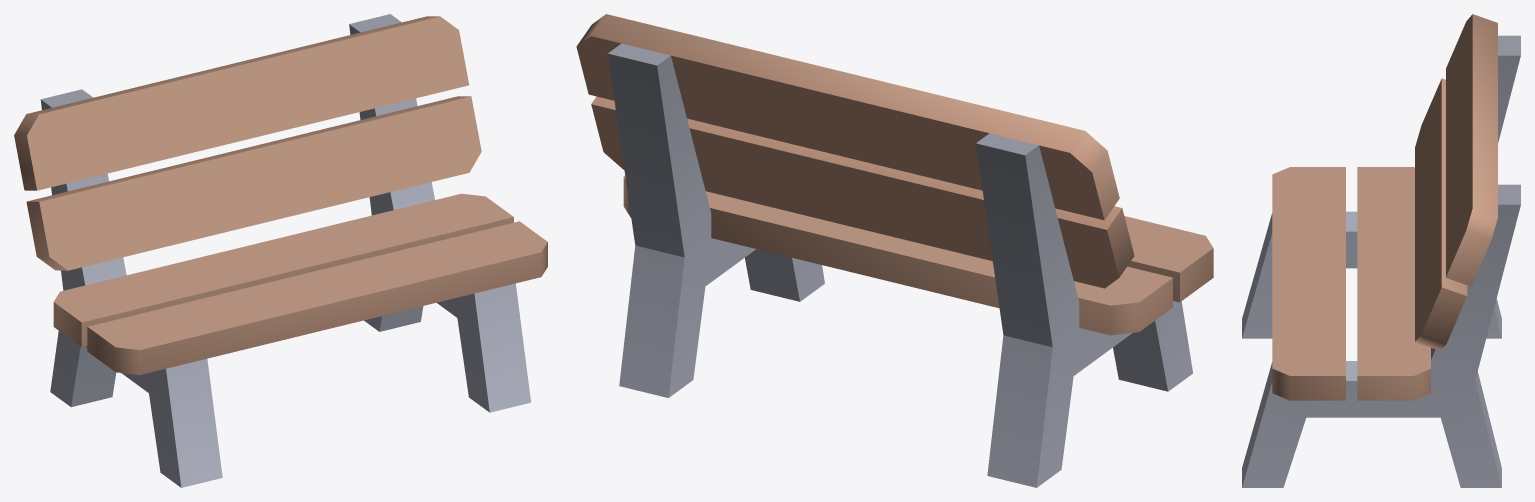
File: bench.glb
3 renders of one model, left to right at view 1: azimuth 30°, elevation 25°; view 2: azimuth 150°, elevation 25°; view 3: azimuth 270°, elevation 25°, orthographic. The views are drawn at different scales.
Visible parts, largest first — view 1: bench; view 2: bench; view 3: bench.
Part boxes in pixels (<box>): bench: <box>14,14,547,487</box>; bench: <box>576,14,1213,487</box>; bench: <box>1242,14,1520,487</box>.
Bounding box in the file's own units: 26 × 16.94 × 14.66.
